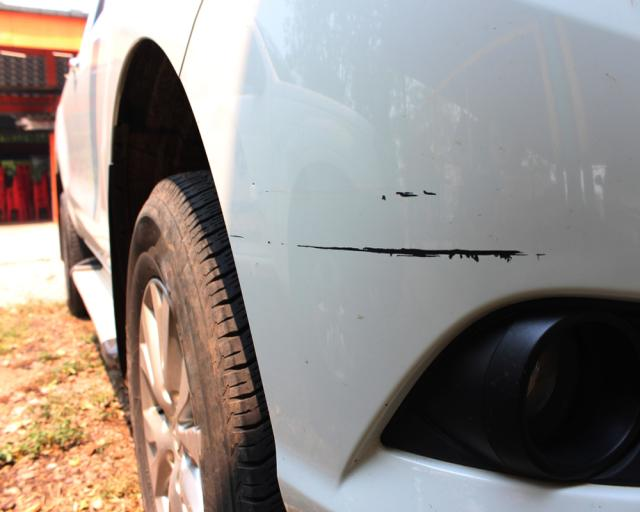scratch: (230, 232, 552, 265), (377, 189, 440, 201)
